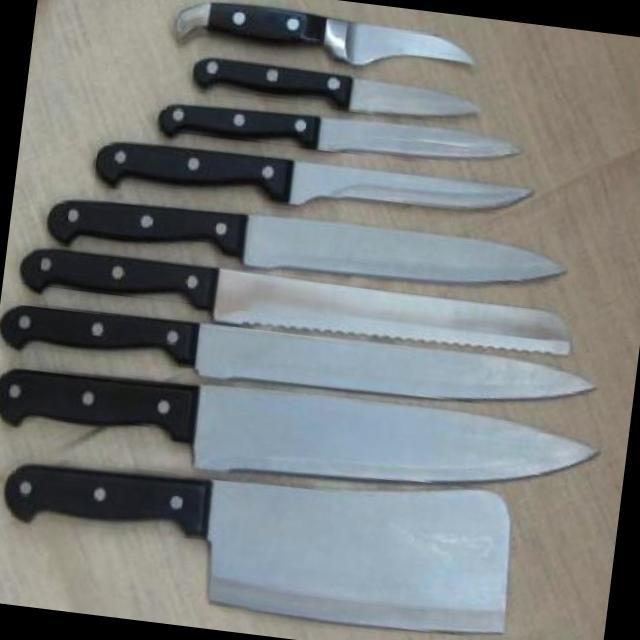weapon: (0, 430, 521, 640), (0, 351, 602, 516), (0, 291, 601, 423), (14, 240, 576, 364), (42, 182, 569, 304), (90, 132, 535, 237), (156, 92, 524, 178), (170, 0, 477, 78), (188, 53, 482, 126)
